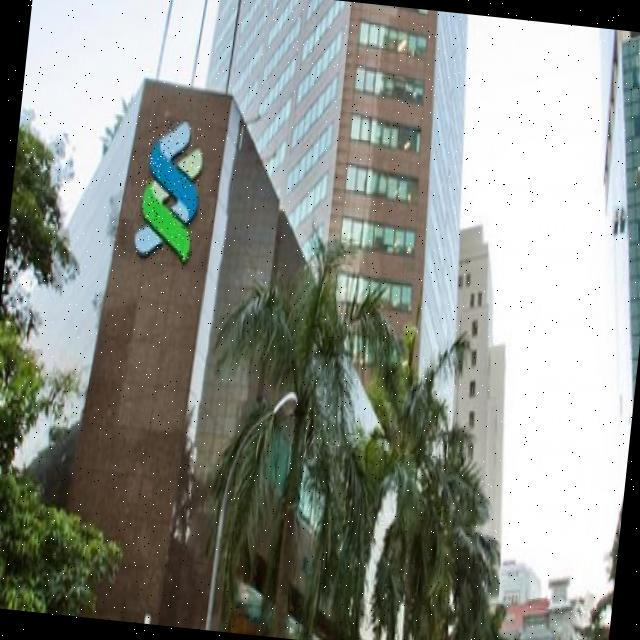Standard Chartered: (134, 119, 205, 260)
